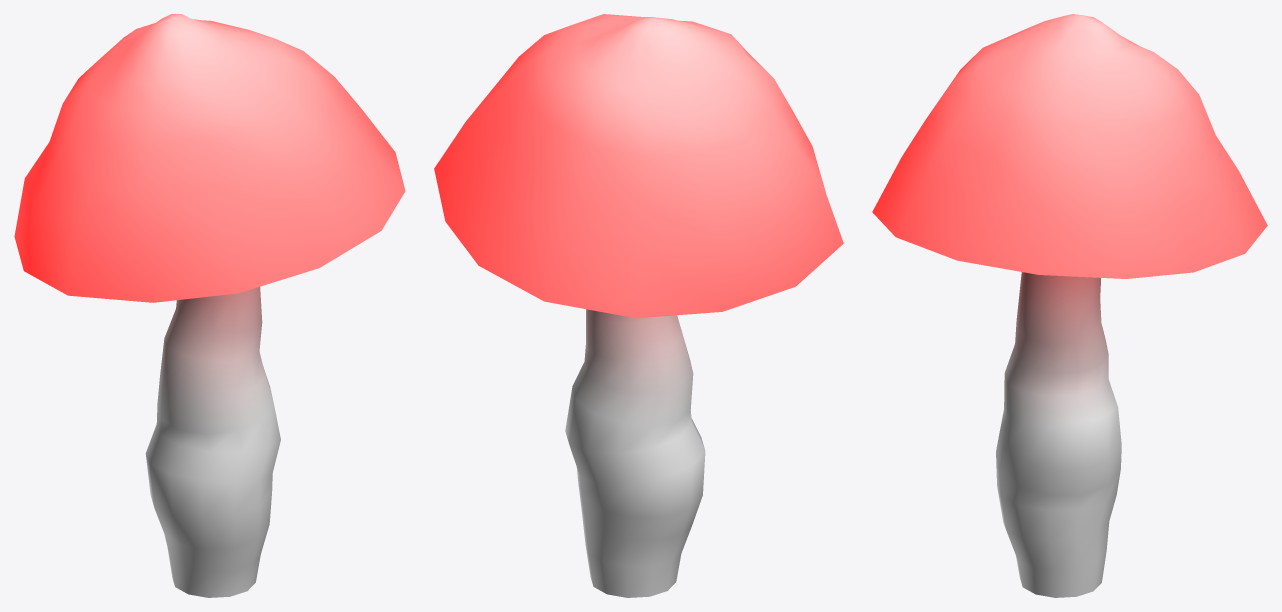
Rendered from mushroom_4.glb.
The picture shows the model from 3 angles, left to right: view 1: azimuth 30°, elevation 25°; view 2: azimuth 150°, elevation 25°; view 3: azimuth 270°, elevation 25°; orthographic projection. The views are drawn at different scales.
Visible parts, largest first — view 1: geo1; view 2: geo1; view 3: geo1.
Boxes of the visible parts, x1=… form: geo1: x1=14, y1=14, x2=405, y2=597; geo1: x1=434, y1=14, x2=843, y2=597; geo1: x1=872, y1=14, x2=1267, y2=597.
Bounding box in the file's own units: 0.2193 × 0.3404 × 0.2216.
